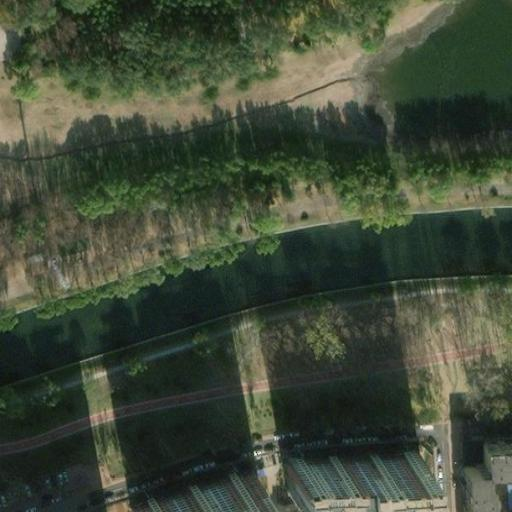building: (162, 464, 251, 510), (343, 441, 406, 474), (279, 445, 342, 478), (454, 463, 484, 512), (120, 486, 168, 512), (474, 431, 512, 463)
